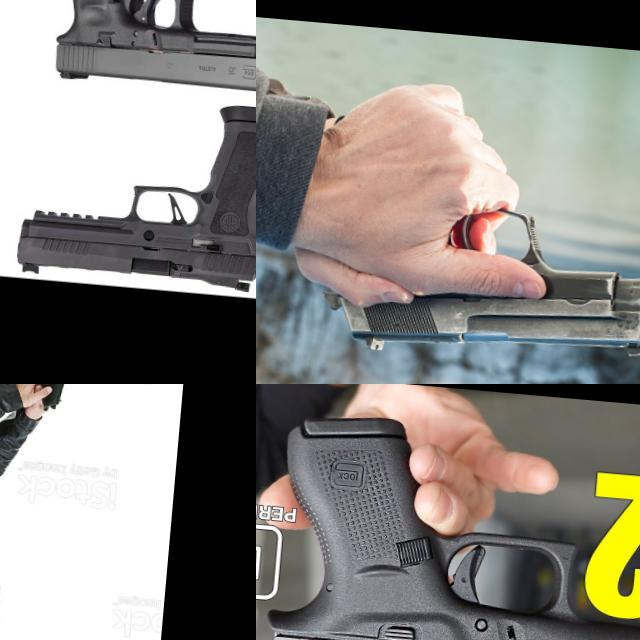handgun: (256, 406, 640, 640), (315, 190, 640, 378), (10, 83, 256, 297), (0, 55, 143, 270), (31, 0, 256, 109), (0, 0, 149, 108), (29, 384, 75, 423)
